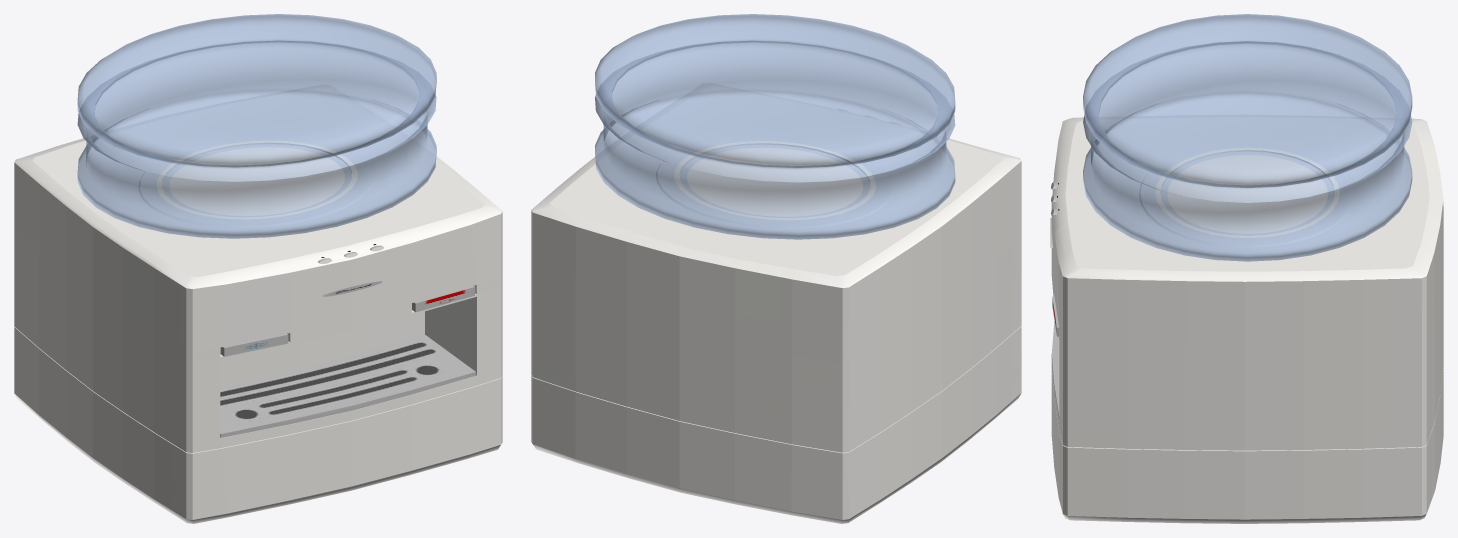
Rendered from sh-scopia-water-cooler.glb.
3 renders of one model, left to right at view 1: azimuth 30°, elevation 25°; view 2: azimuth 150°, elevation 25°; view 3: azimuth 270°, elevation 25°, orthographic. The views are drawn at different scales.
Parts seen in each view (by area): view 1: Cube, Cylinder; view 2: Cube, Cylinder; view 3: Cube, Cylinder.
Boxes of the visible parts, left/top/right/bottom form: Cube: left=14, top=85, right=502, bottom=523; Cylinder: left=77, top=14, right=436, bottom=238; Cube: left=531, top=83, right=1021, bottom=523; Cylinder: left=595, top=14, right=955, bottom=239; Cube: left=1050, top=115, right=1443, bottom=523; Cylinder: left=1083, top=14, right=1412, bottom=261.
Size of the model in its own units: 1 by 1 by 1.
2 materials, 1 textured.
